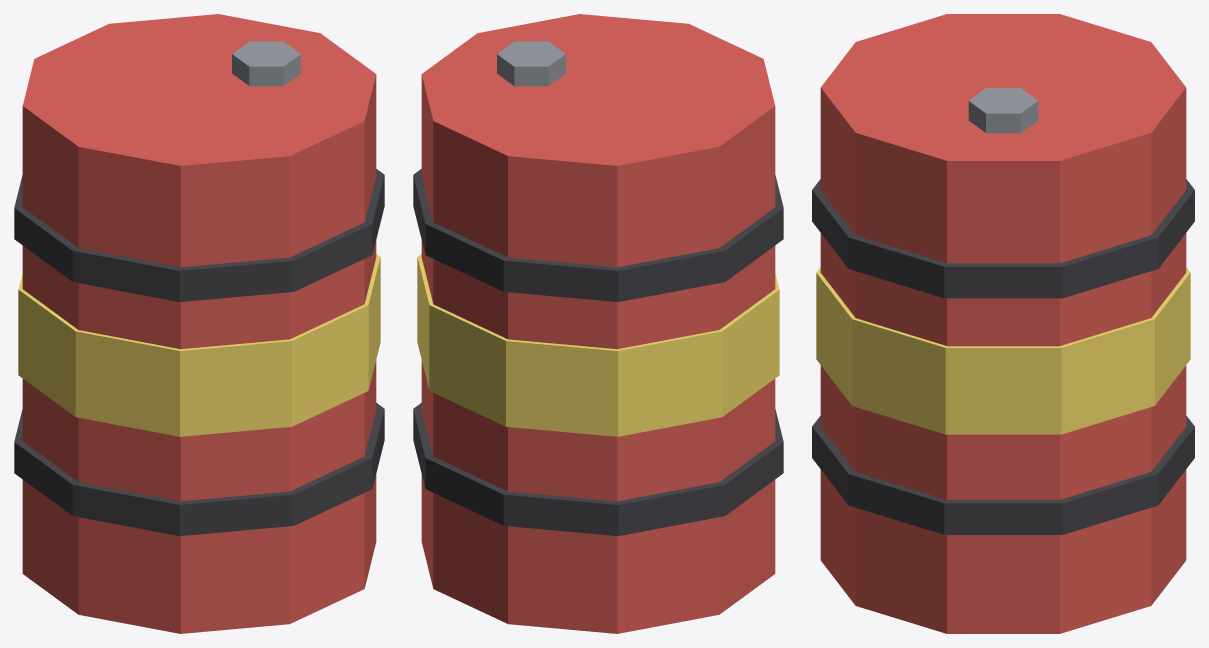
Rendered from barrel.glb.
The picture shows the model from 3 angles, left to right: view 1: azimuth 30°, elevation 25°; view 2: azimuth 150°, elevation 25°; view 3: azimuth 270°, elevation 25°; orthographic projection.
Parts seen in each view (by area): view 1: barrel; view 2: barrel; view 3: barrel.
Part boxes in pixels (<box>): barrel: <box>14,14,384,633</box>; barrel: <box>413,14,783,633</box>; barrel: <box>812,14,1194,633</box>.
Size of the model in its own units: 0.8369 by 1.25 by 0.88.
